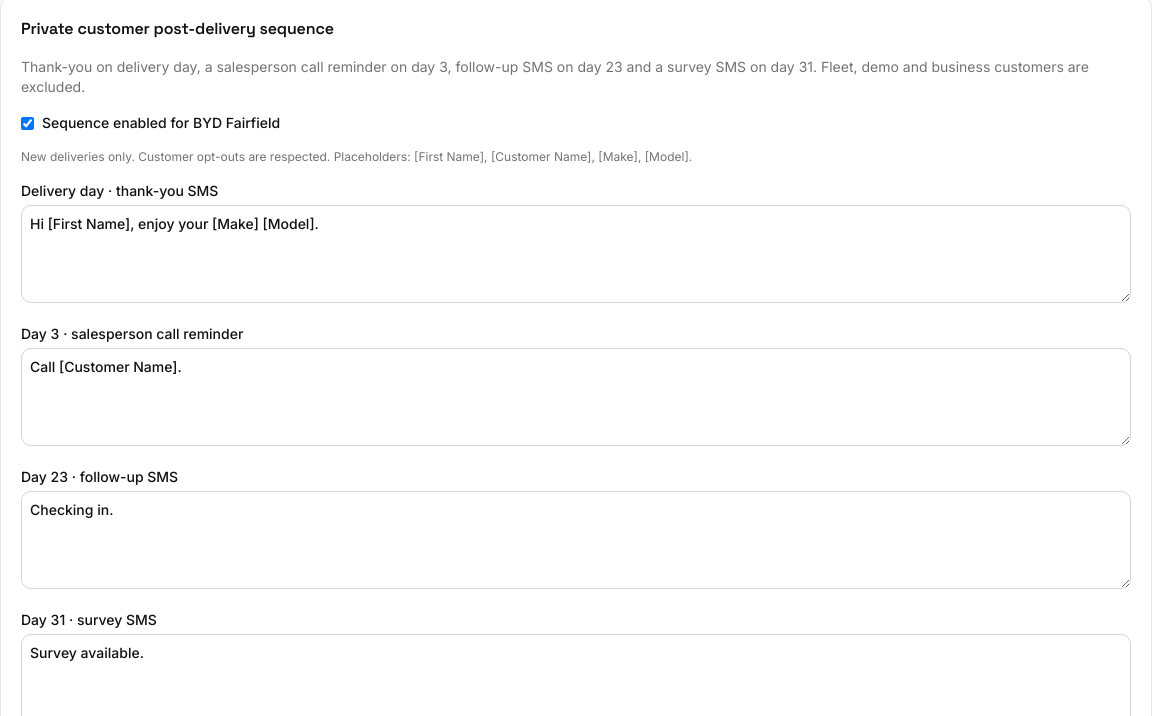
post-delivery settings load and save the actual site sequence and all four templates
Step 1. Click the checkbox labelled "Sequence enabled for BYD Fairfield" → {"x": 28, "y": 123}, box [21,116,34,130]
(page scrolled)
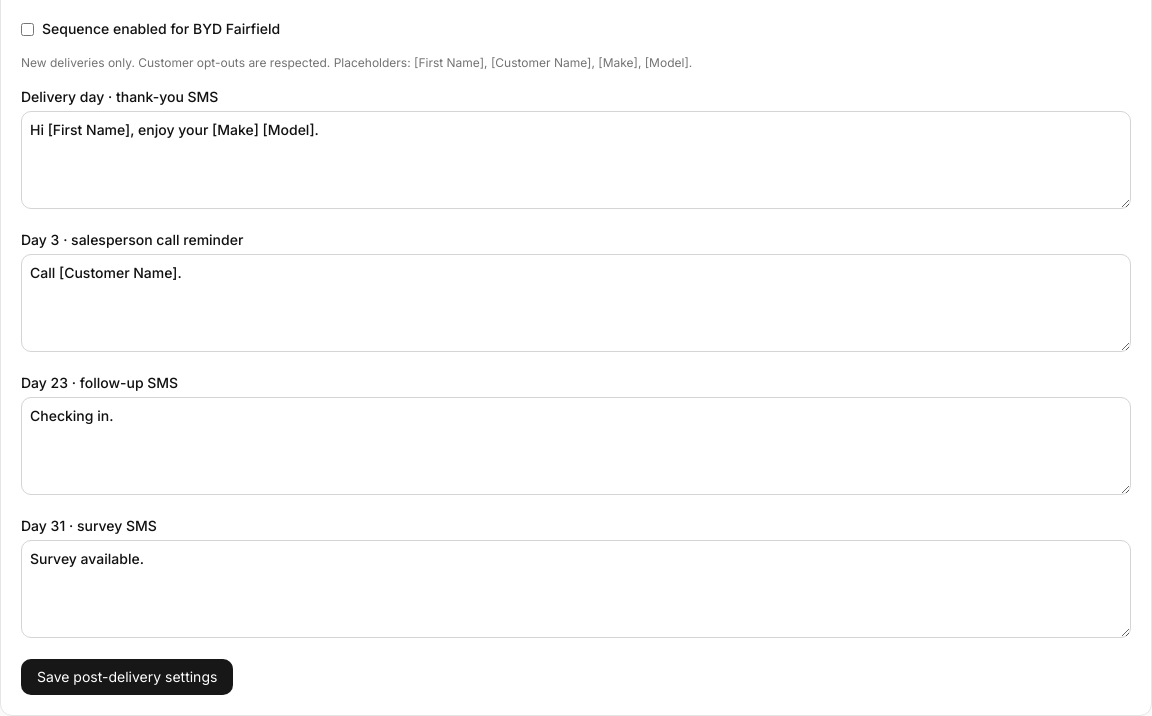
Step 2. Submit the form
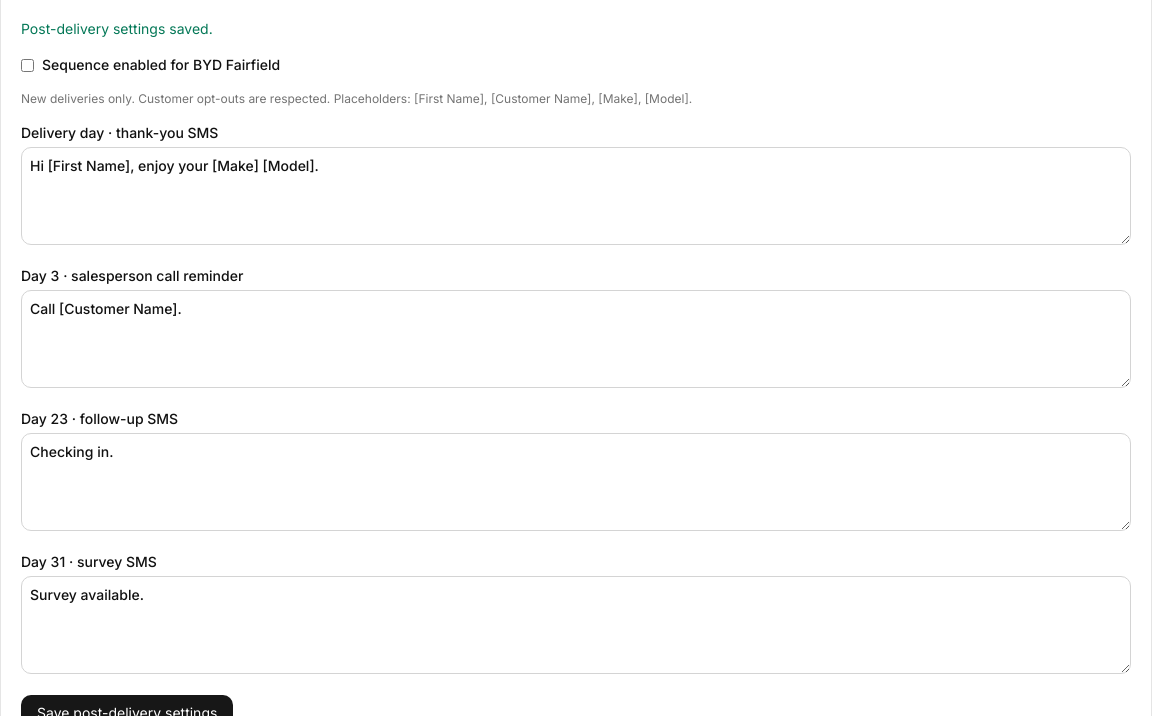
Check: the message "Post-delivery settings saved." is shown, box [21,20,213,37]
